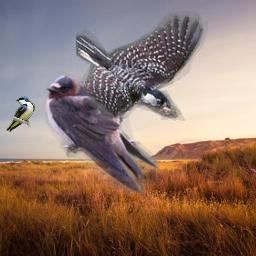Swallow: (43, 73, 160, 196), (6, 96, 35, 132)
Woodpecker: (76, 10, 208, 121)
